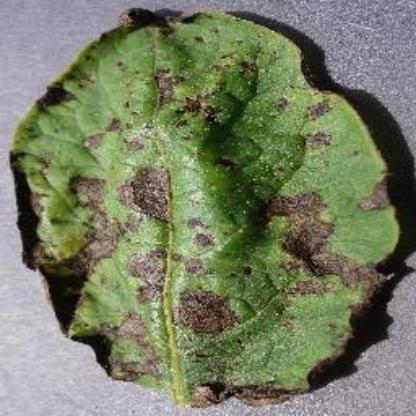Early-Blight: (10, 8, 408, 408)
